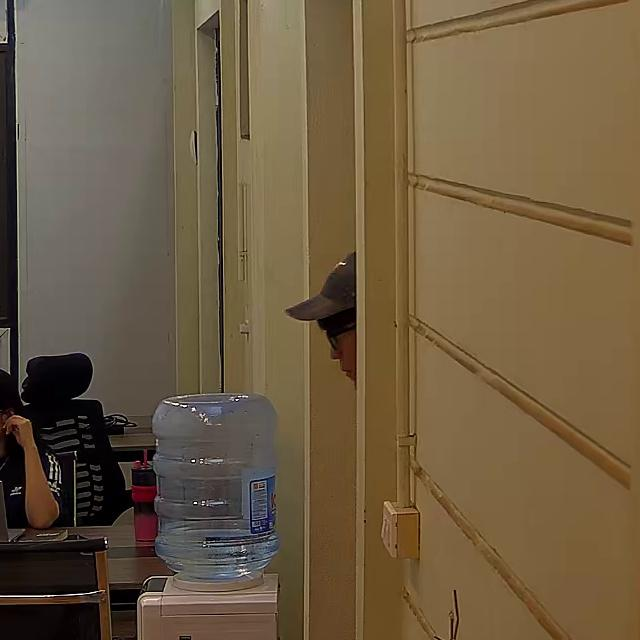helmet: (285, 249, 358, 329)
no_helmet: (1, 368, 23, 414)
none: (2, 443, 71, 529)
